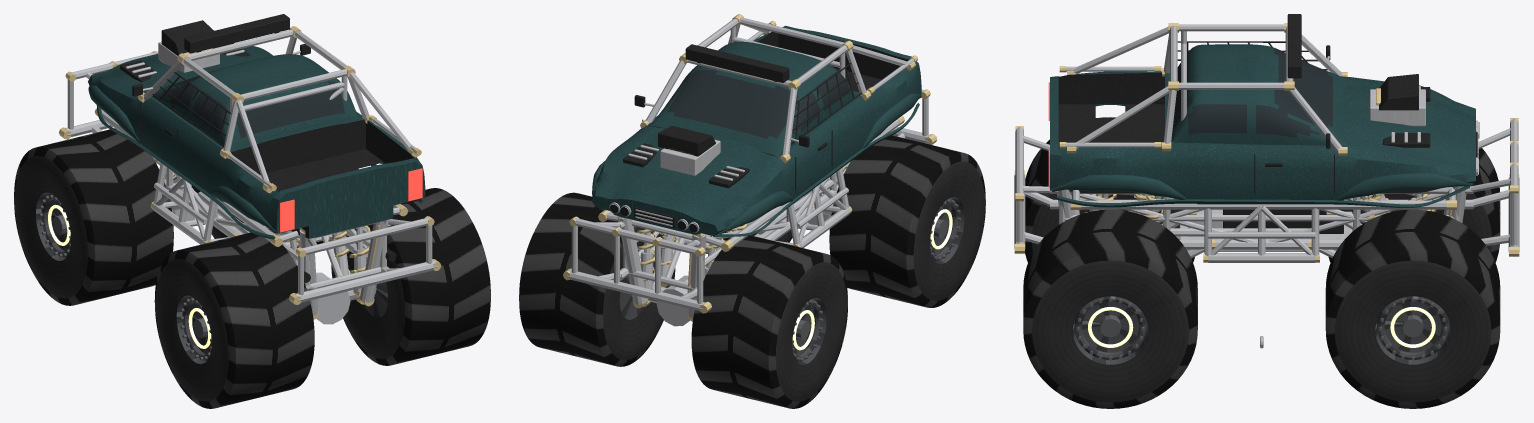
File: monster_v6.glb
The picture shows the model from 3 angles, left to right: view 1: azimuth 30°, elevation 25°; view 2: azimuth 150°, elevation 25°; view 3: azimuth 270°, elevation 25°; orthographic projection. The views are drawn at different scales.
Visible parts, largest first — view 1: chassis, wheel_2, wheel_0, wheel_3, fins; view 2: chassis, wheel_0, wheel_2, wheel_1, fins; view 3: chassis, wheel_1, wheel_3, wheel_0, wheel_2, fins.
Part boxes in pixels (x1,y1,x2,y2): chassis: (59, 20, 441, 324); wheel_2: (154, 232, 314, 408); wheel_0: (14, 128, 173, 305); wheel_3: (331, 188, 490, 365); fins: (184, 14, 289, 53); chassis: (563, 14, 937, 326); wheel_0: (691, 235, 847, 408); wheel_2: (829, 135, 985, 307); wheel_1: (519, 192, 675, 366); fins: (685, 44, 789, 82); chassis: (1014, 23, 1519, 262); wheel_1: (1325, 209, 1500, 408); wheel_3: (1023, 209, 1197, 408); wheel_0: (1328, 148, 1500, 262); wheel_2: (1025, 117, 1194, 262); fins: (1260, 14, 1301, 348).
Bounding box in the file's own units: 3.79 × 3.93 × 5.85.
Materials: 27 (15 with a texture image).
